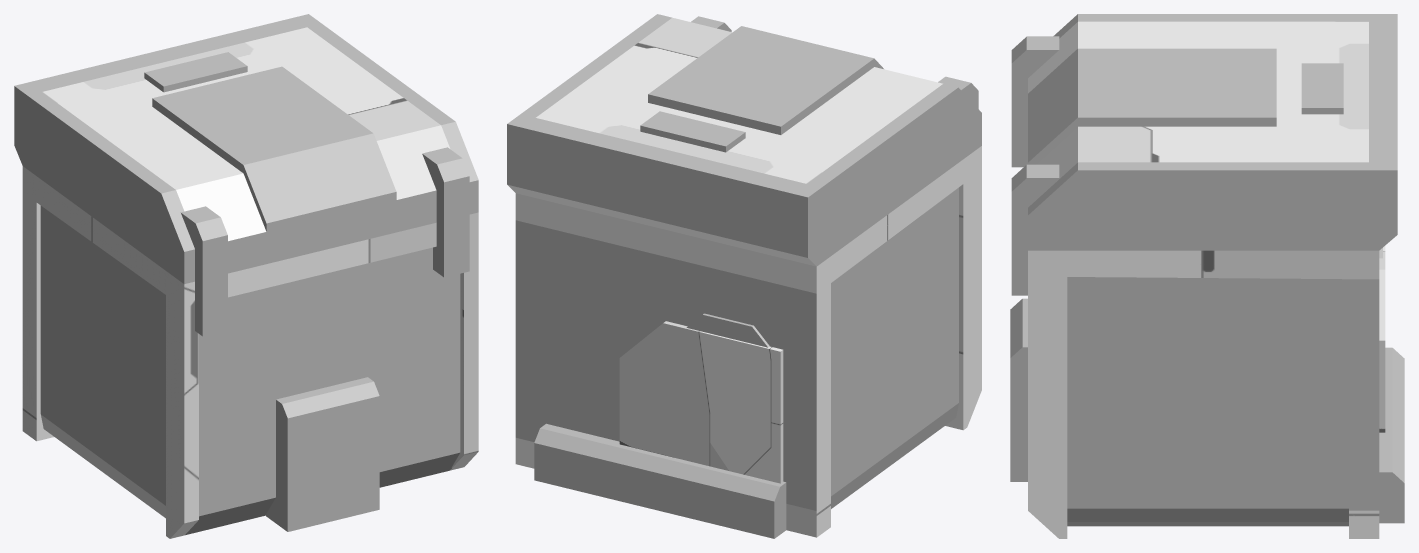
File: SM_ContainerL_Box_2.fbx
The picture shows the model from 3 angles, left to right: view 1: azimuth 30°, elevation 25°; view 2: azimuth 150°, elevation 25°; view 3: azimuth 270°, elevation 25°; orthographic projection. The views are drawn at different scales.
Visible parts, largest first — view 1: SM_ContainerL_Box_2; view 2: SM_ContainerL_Box_2; view 3: SM_ContainerL_Box_2.
Boxes of the visible parts, box(x1,y1,x2,y2) form: SM_ContainerL_Box_2: box(14, 14, 478, 538); SM_ContainerL_Box_2: box(507, 14, 981, 538); SM_ContainerL_Box_2: box(1010, 14, 1404, 538).
Size of the model in its own units: 200 by 225 by 213.
